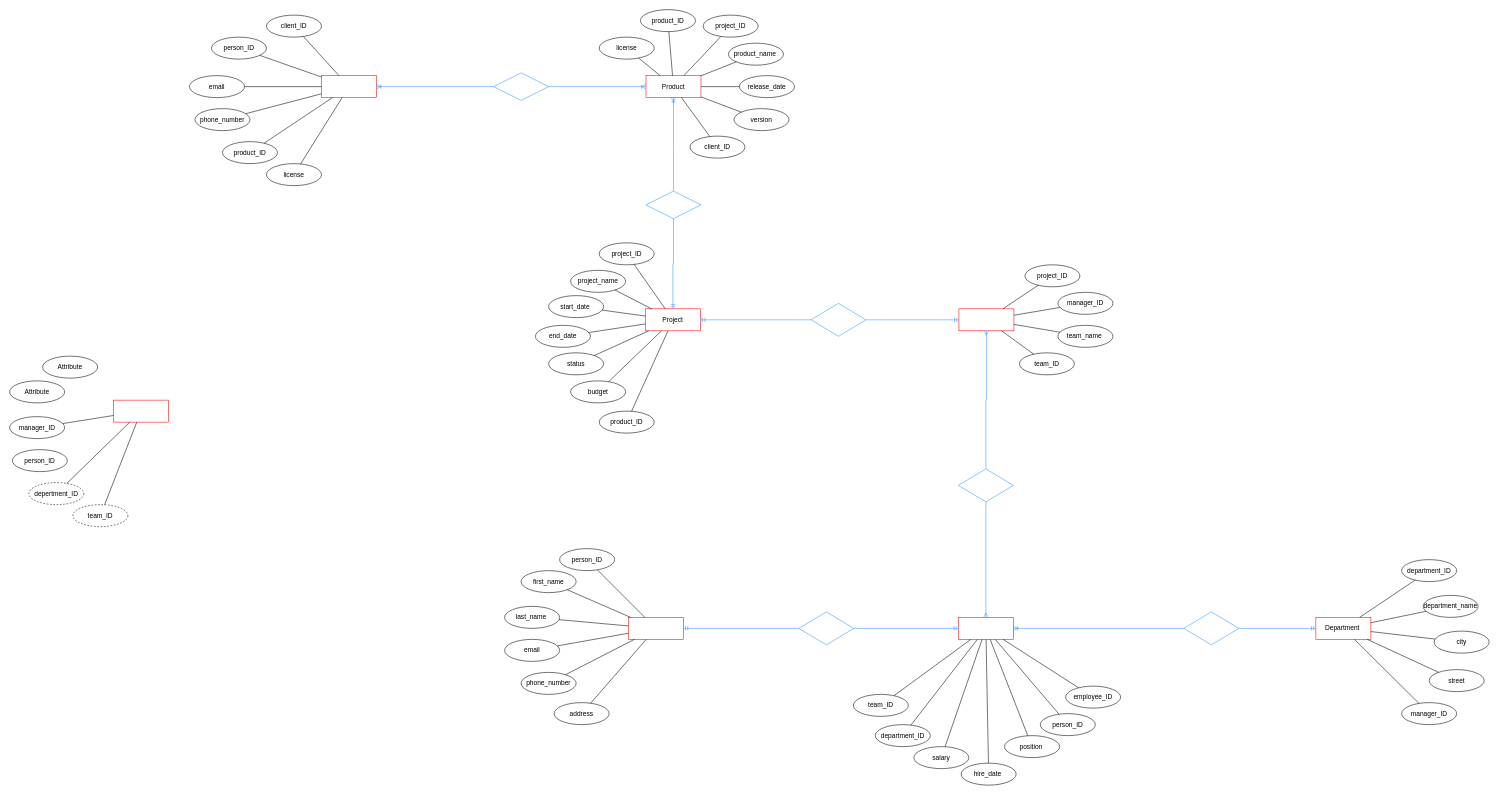
Image size: 1499x795. Some labels were removed from this diagram. The shapes that lost their labels are listed below. From the top down, each one's box as (x1, y1, x2, y2) in pixels, then its label:
(321, 75, 376, 98): Client
(493, 72, 549, 100): use
(645, 191, 701, 219): contain
(810, 303, 866, 336): work under
(958, 308, 1014, 331): Team
(113, 400, 169, 422): Manager
(628, 617, 683, 639): Person
(958, 617, 1013, 639): Employee
(1183, 611, 1239, 645): works for
